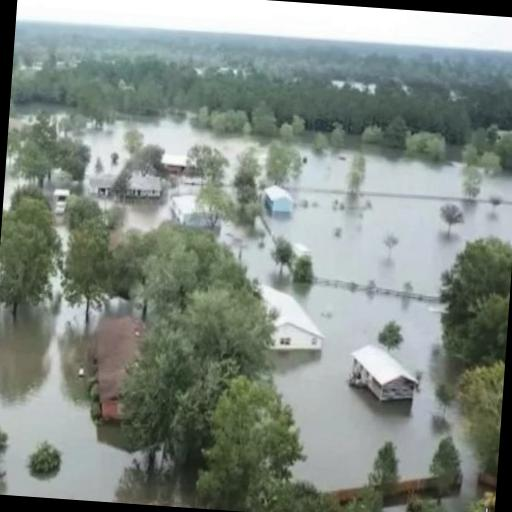flood: (217, 141, 512, 512), (0, 279, 201, 508), (79, 115, 269, 182), (98, 183, 197, 231), (9, 104, 71, 126), (3, 161, 23, 208), (384, 504, 407, 512)
house: (80, 312, 138, 425), (346, 336, 420, 410), (257, 282, 326, 356), (88, 172, 162, 203), (261, 184, 297, 220), (168, 191, 206, 225), (158, 146, 192, 175)
